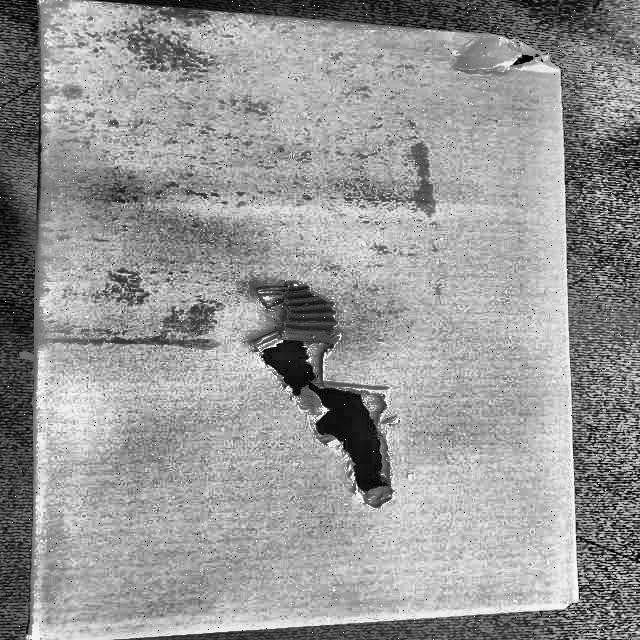box: (28, 1, 585, 640)
hole: (235, 341, 405, 502)
